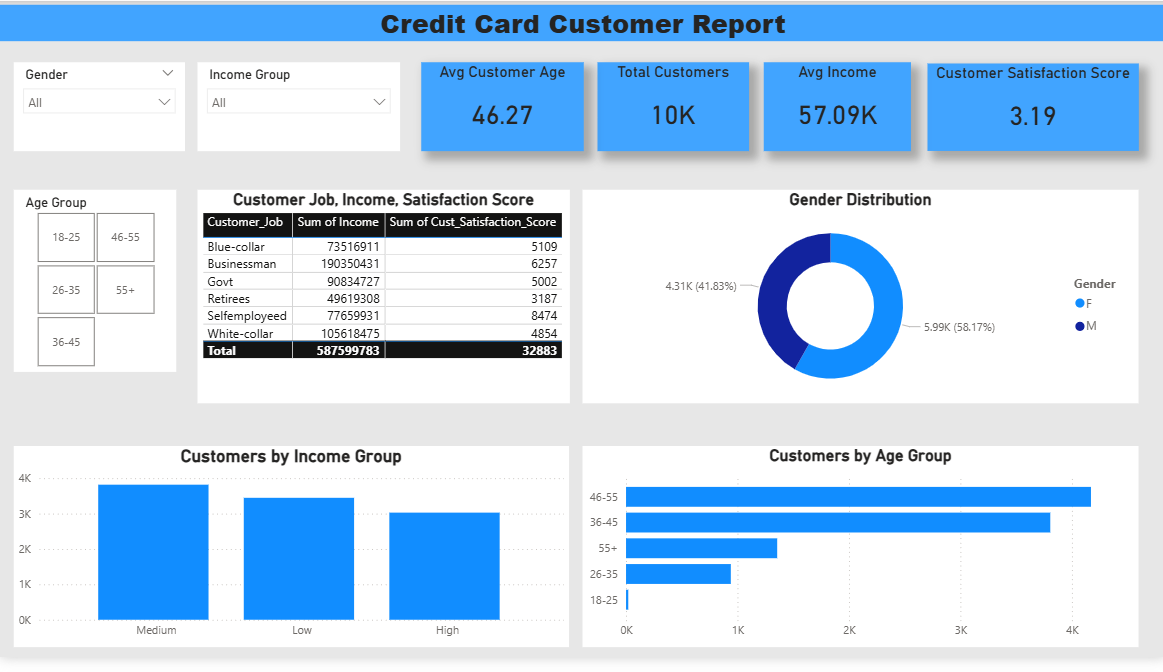

This screenshot's page, from the dashboard's own definition file:
{"tool":"powerbi","page":{"name":"Customer Dashboard","canvas":[1280,720],"ordinal":0},"visuals":[{"type":"card","title":"Total Customers","fields":{"Values":["customer.Total Customers"]},"box":[655.9,67.2,166,97.4],"z":0},{"type":"card","title":"Customer Satisfaction Score","fields":{"Values":["customer.Customer Satisfaction Score"]},"box":[1018.2,68.6,231.9,96.1],"z":1000},{"type":"card","title":"Avg Income","fields":{"Values":["customer.Avg Income"]},"box":[838.4,67.2,161.9,97.4],"z":2000},{"type":"slicer","fields":{"Values":["customer.Gender"]},"box":[15.1,67.2,188,97.4],"z":4000},{"type":"clusteredBarChart","title":"Customers by Age Group","fields":{"Category":["customer.Age Group"],"Y":["CountNonNull(customer.Age Group)"]},"box":[639.5,488.5,610.6,220.9],"z":6000},{"type":"columnChart","title":"Customers by Income Group","fields":{"Category":["customer.Income Group"],"Y":["CountNonNull(customer.Income Group)"]},"box":[15.1,488.5,609.3,220.9],"z":7000},{"type":"donutChart","title":"Gender Distribution","fields":{"Category":["customer.Gender"],"Y":["CountNonNull(customer.Client_Num)"]},"box":[639.5,207.2,610.6,234.6],"z":8000},{"type":"tableEx","title":"Customer Job, Income, Satisfaction Score","fields":{"Values":["customer.Customer_Job","Sum(customer.Income)","Sum(customer.Cust_Satisfaction_Score)"]},"box":[216.8,207.2,408.9,234.6],"z":9000},{"type":"slicer","fields":{"Values":["customer.Age Group"]},"box":[15.1,207.2,178.4,200.3],"z":10000},{"type":"slicer","fields":{"Values":["customer.Income Group"]},"box":[216.8,67.2,222.3,97.4],"z":11000},{"type":"card","title":"Avg Customer Age","fields":{"Values":["customer.Avg Customer Age"]},"box":[462.4,67.2,178.4,97.4],"z":11001},{"type":"shape","title":"Credit Card Customer Report","box":[0,4.1,1280.3,39.8],"z":11002}]}

Visuals, with their boxes in screenshot pixels (x1, y1, x2, y2), scaled from the page's 1280x720 canvas onto the 1163x672 screenshot:
"Total Customers" card: 596, 63, 747, 154
"Customer Satisfaction Score" card: 925, 64, 1136, 154
"Avg Income" card: 762, 63, 909, 154
slicer - customer.Gender: 14, 63, 185, 154
"Customers by Age Group" clusteredBarChart: 581, 456, 1136, 662
"Customers by Income Group" columnChart: 14, 456, 567, 662
"Gender Distribution" donutChart: 581, 193, 1136, 412
"Customer Job, Income, Satisfaction Score" tableEx: 197, 193, 569, 412
slicer - customer.Age Group: 14, 193, 176, 380
slicer - customer.Income Group: 197, 63, 399, 154
"Avg Customer Age" card: 420, 63, 582, 154
"Credit Card Customer Report" shape: 0, 4, 1162, 41
